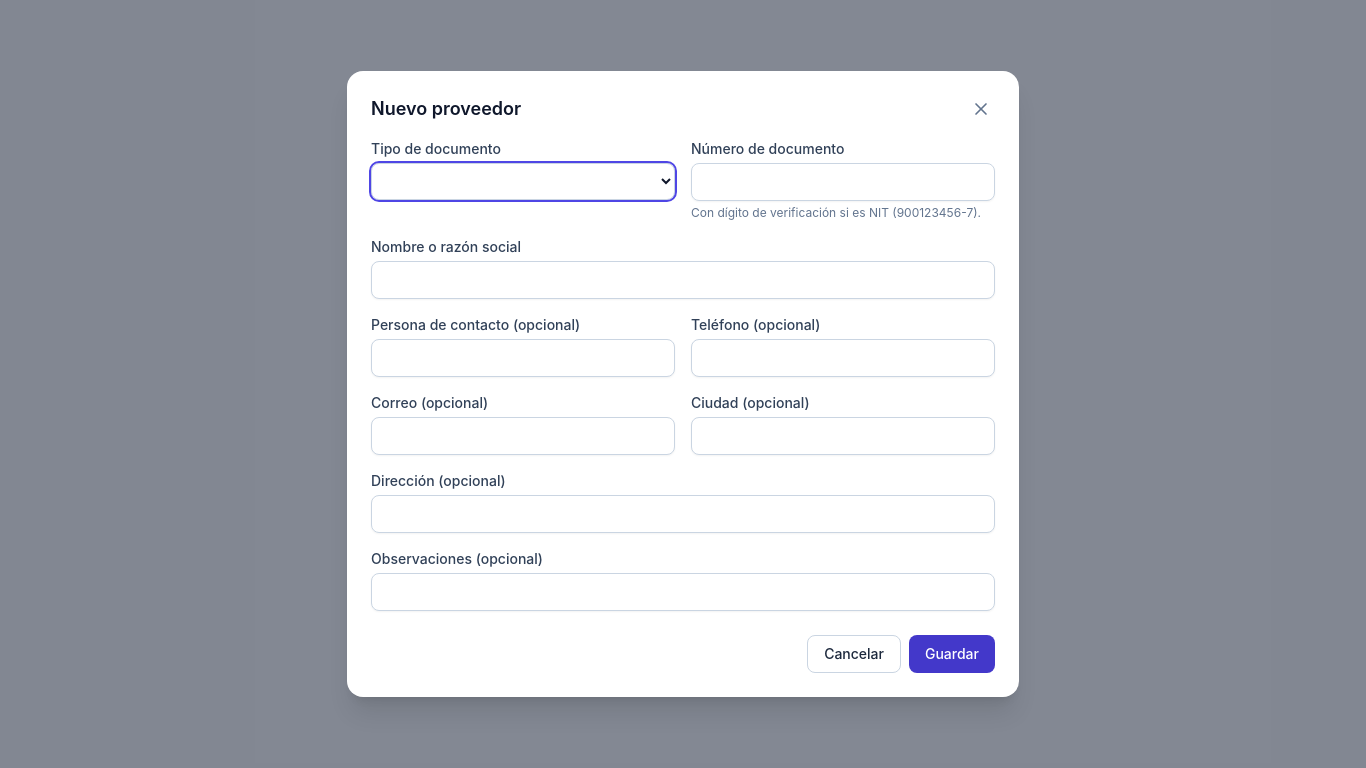
Scenario: SupplierFormModal › validates the document, phone and email
Type "900#123" into the field labelled "Número de documento" at [843, 182], box top-left (691, 163), bottom-right (995, 201)
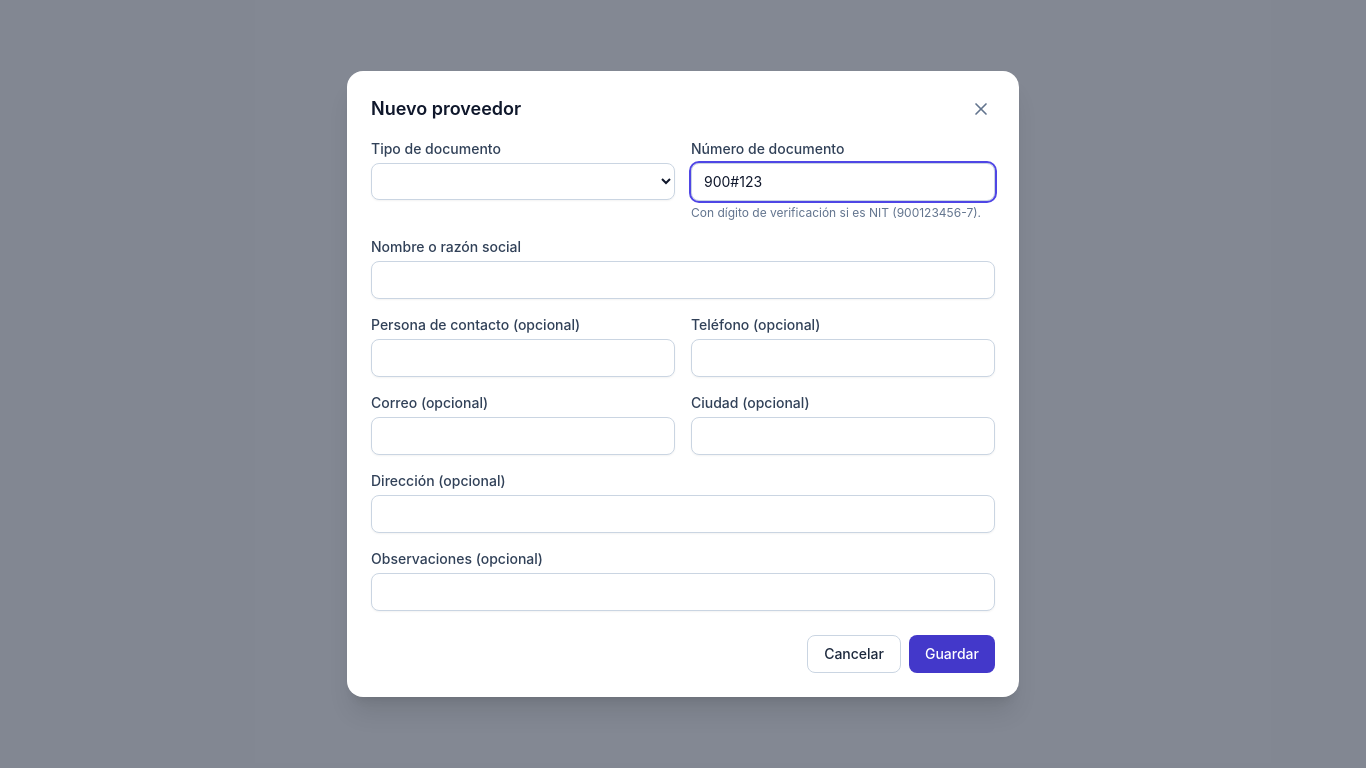
Type "Proveedor" into the field labelled "Nombre o razón social" at [683, 280], box top-left (371, 261), bottom-right (995, 299)
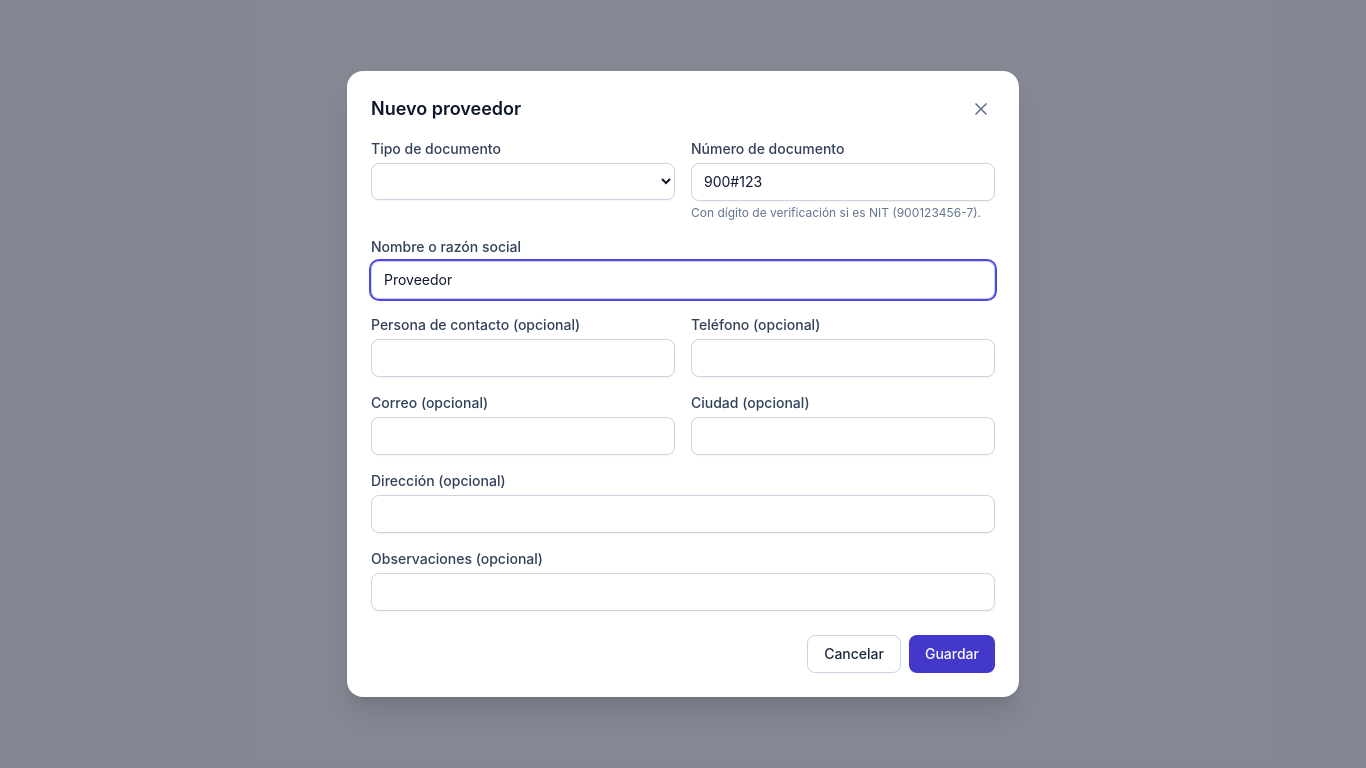
Type "300-ABC" into the field labelled "Teléfono (opcional)" at [843, 358], box top-left (691, 339), bottom-right (995, 377)
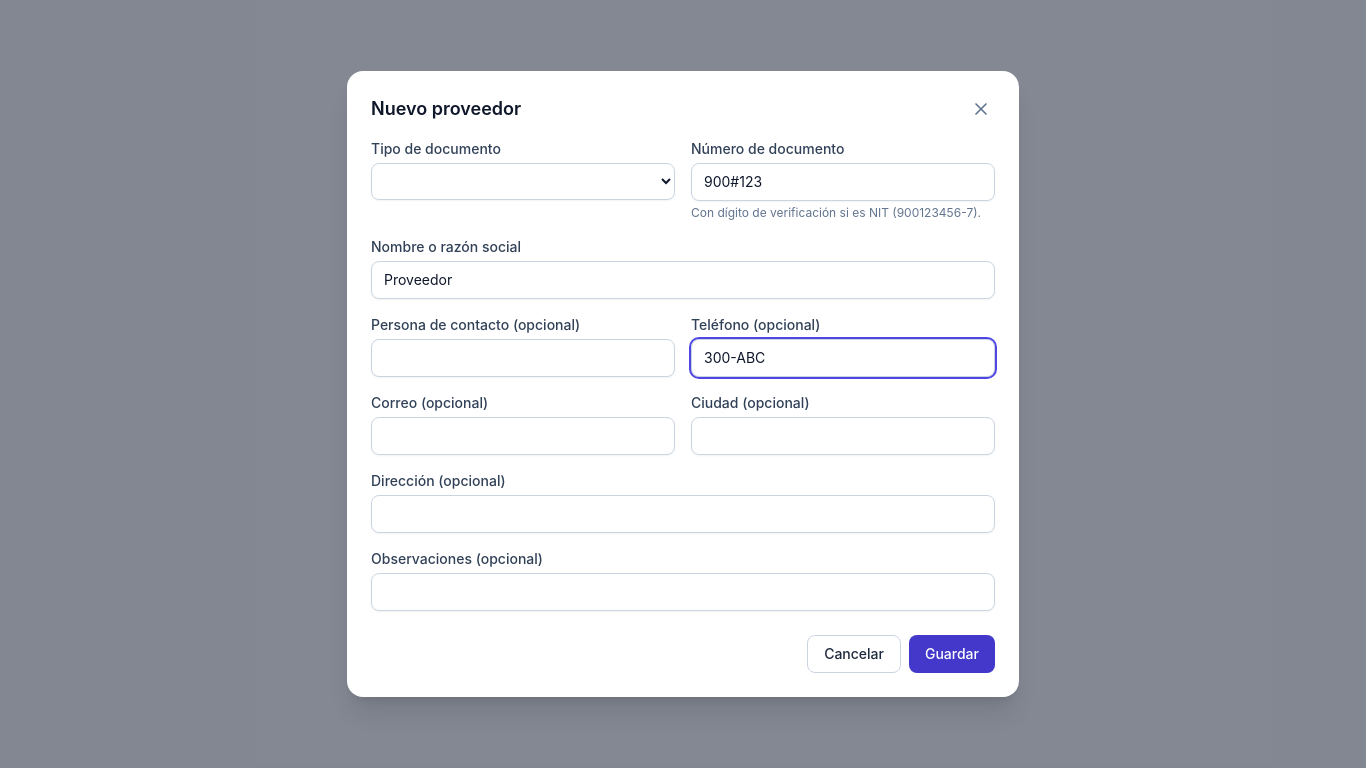
Type "no-es-correo" into the field labelled "Correo (opcional)" at [523, 436], box top-left (371, 417), bottom-right (675, 455)
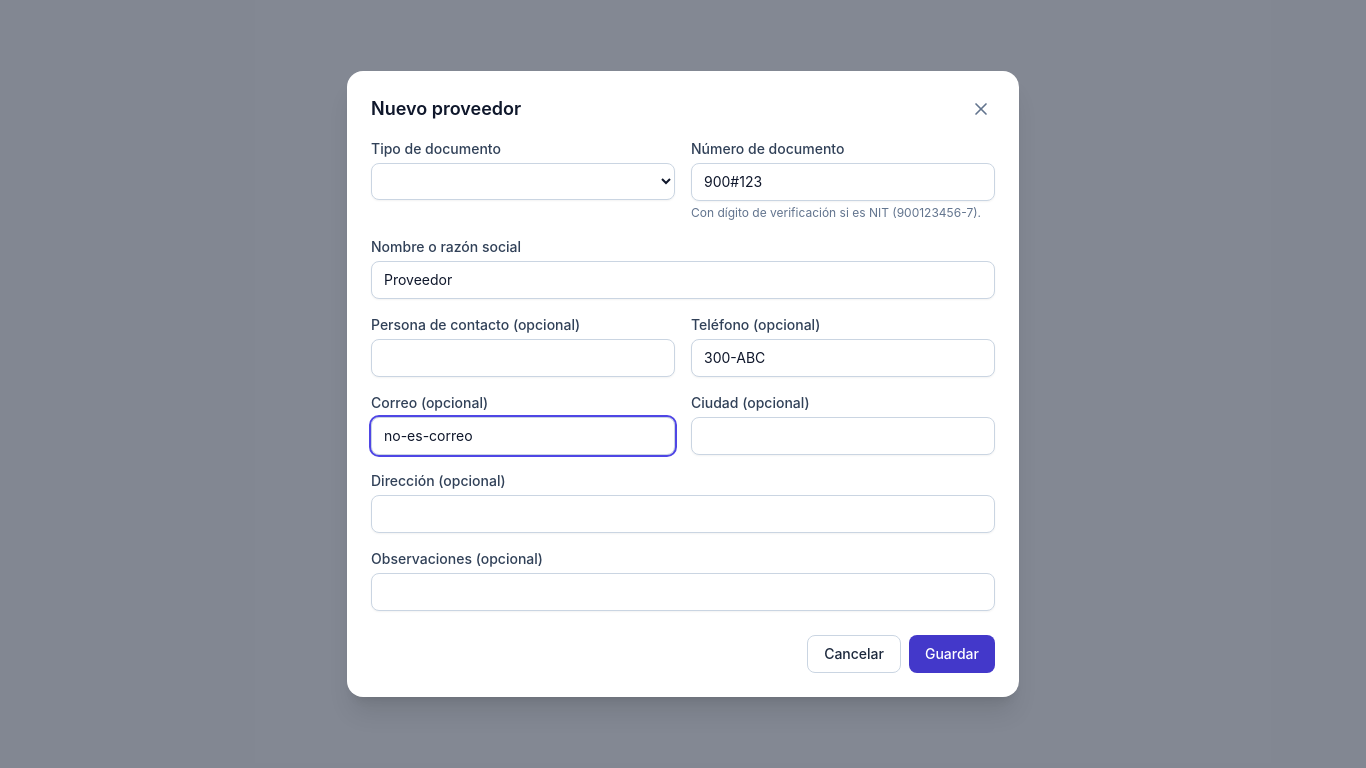
Click the button "Guardar" at [952, 654], box top-left (909, 635), bottom-right (995, 673)
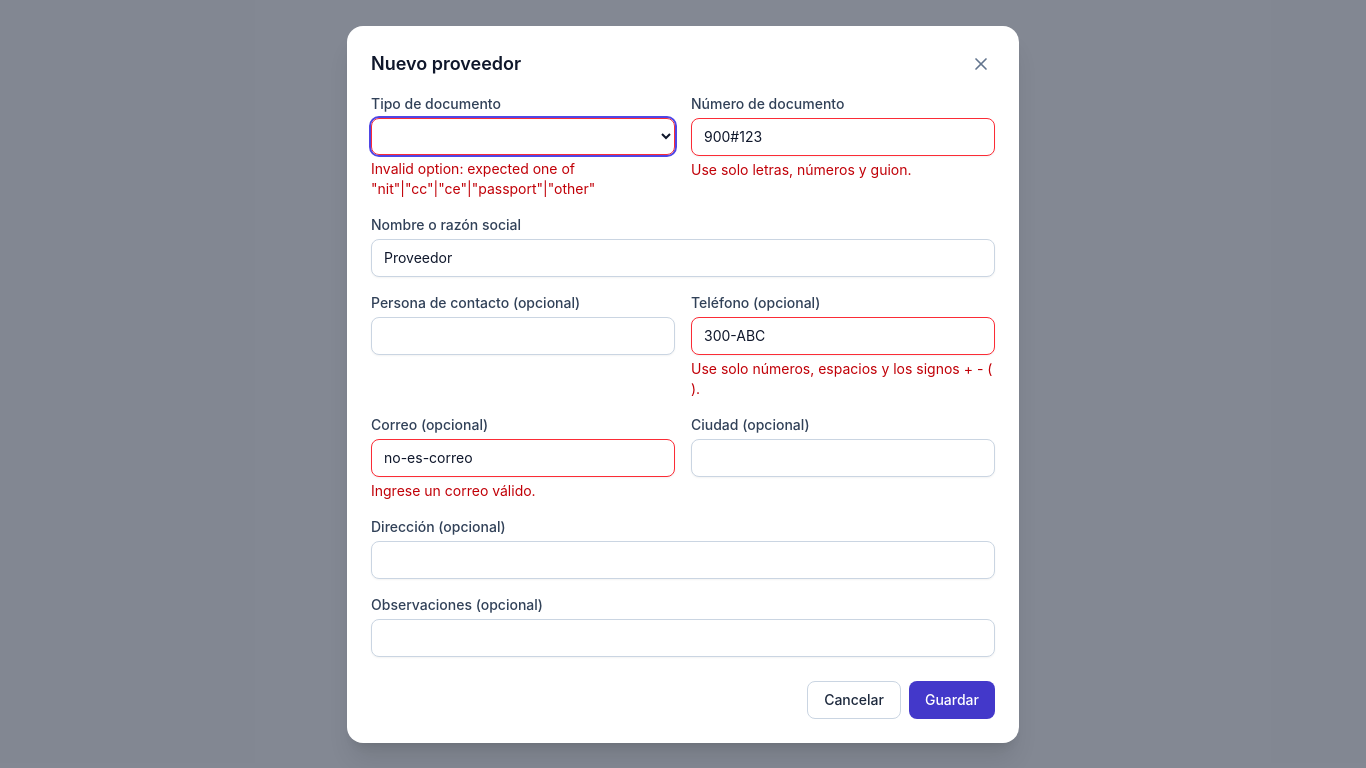
Expected: the text "Use solo letras, números y guion." is shown, top-left (691, 160), bottom-right (912, 178)
Expected: the text "Use solo números, espacios y los signos + - ( )." is shown, top-left (691, 358), bottom-right (995, 398)
Expected: the text "Ingrese un correo válido." is shown, top-left (371, 482), bottom-right (536, 498)
